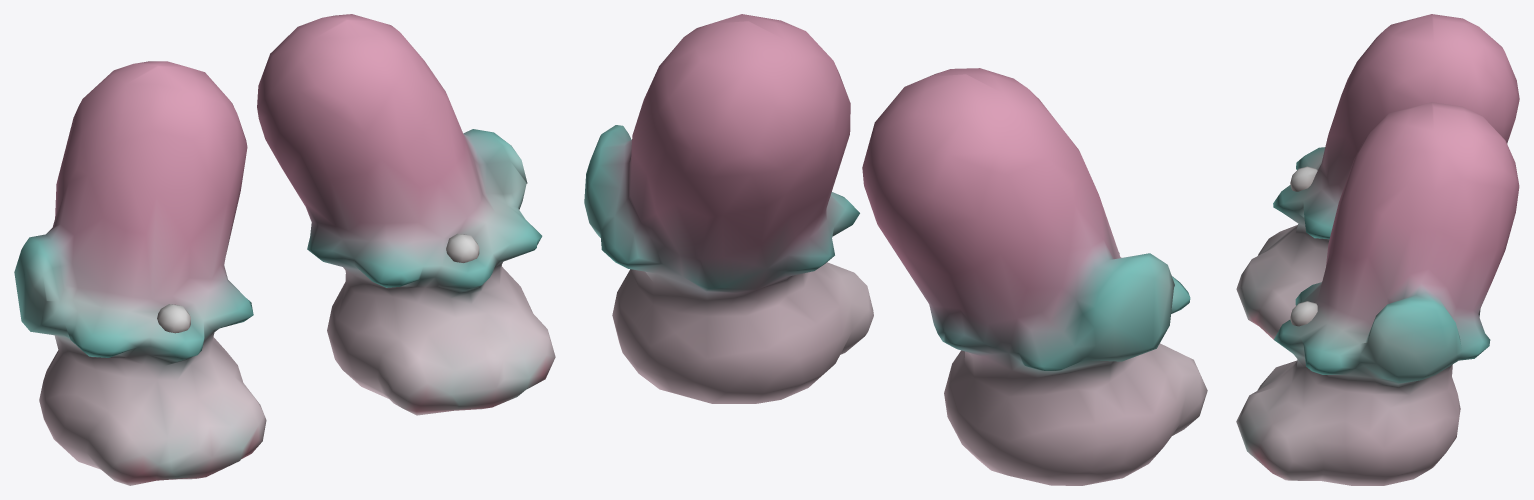
File: water-front-paws.glb
The picture shows the model from 3 angles, left to right: view 1: azimuth 30°, elevation 25°; view 2: azimuth 150°, elevation 25°; view 3: azimuth 270°, elevation 25°; orthographic projection. The views are drawn at different scales.
Visible parts, largest first — view 1: water-front-paws; view 2: water-front-paws; view 3: water-front-paws.
Part boxes in pixels (x1,y1,x2,y2): water-front-paws: (14, 14, 555, 485); water-front-paws: (584, 14, 1207, 485); water-front-paws: (1236, 14, 1519, 485).
Size of the model in its own units: 0.3233 by 0.2133 by 0.1691.
